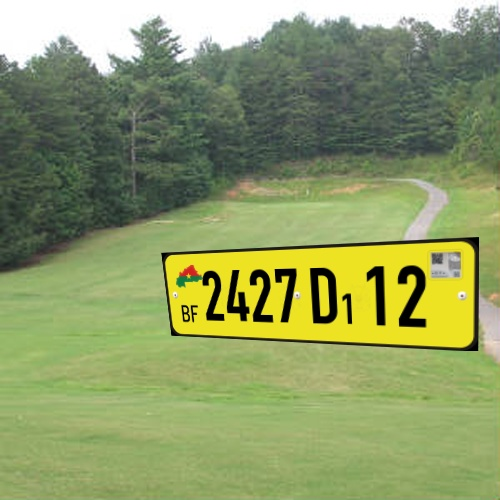plate: (145, 225, 493, 371)
